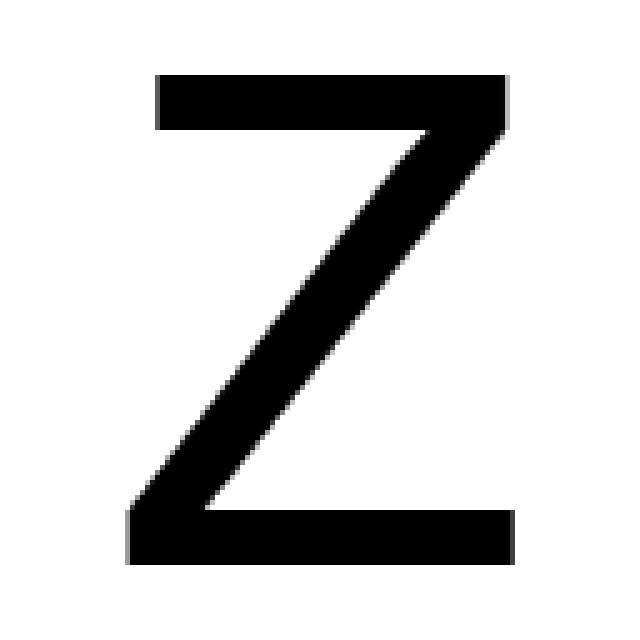Z: (120, 65, 515, 565)
